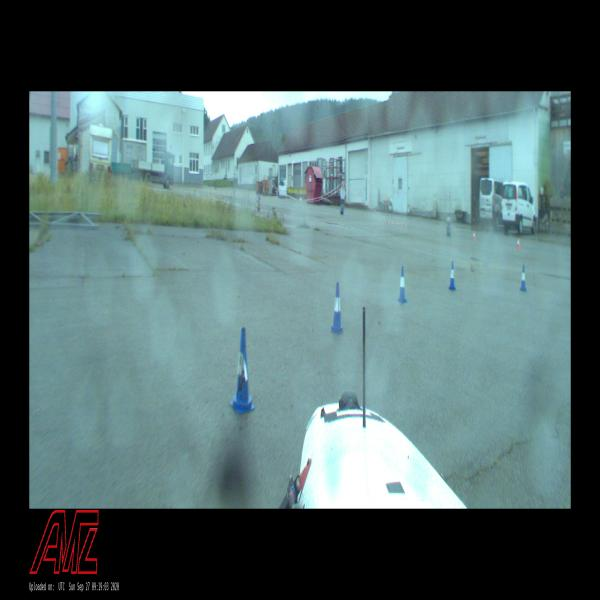blue_cone: (229, 327, 255, 416), (330, 283, 344, 334), (397, 266, 408, 304), (449, 260, 455, 289), (520, 265, 526, 291)
orange_cone: (472, 230, 476, 241), (517, 238, 519, 249)
